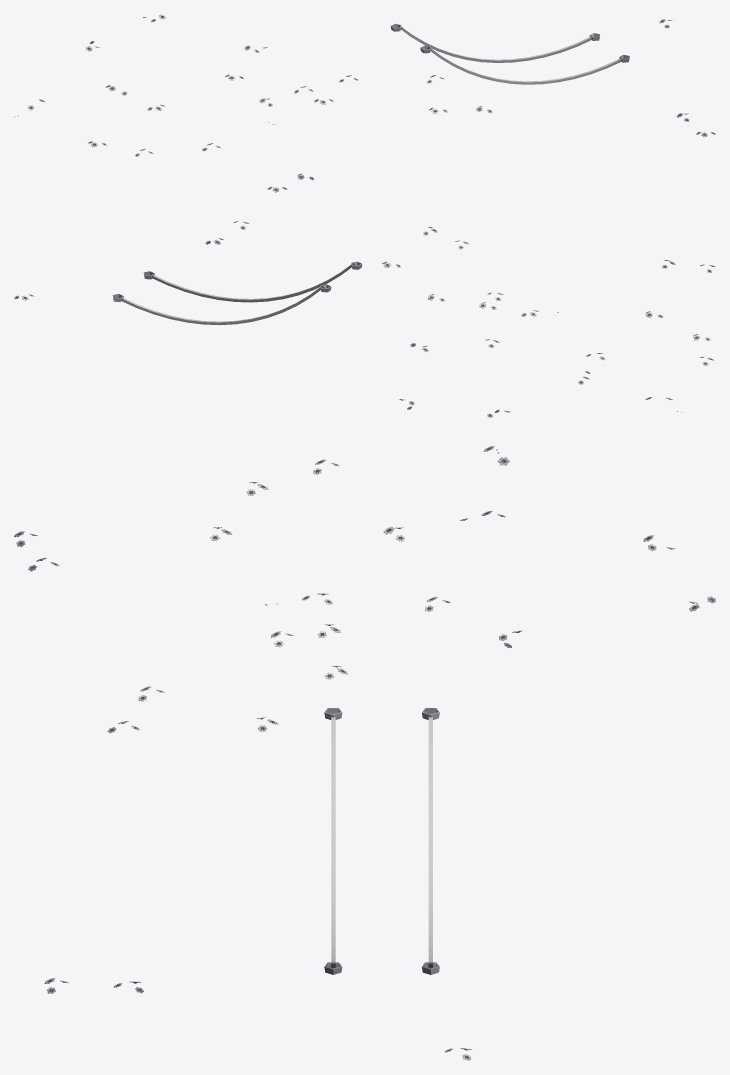
The model's file is Flower_01.FBX.
3 renders of one model, top to bottom at view 1: azimuth 30°, elevation 25°; view 2: azimuth 150°, elevation 25°; view 3: azimuth 270°, elevation 25°, orthographic. The views are drawn at different scales.
Visible parts, largest first — view 1: Flower_01; view 2: Flower_01; view 3: Flower_01.
Part boxes in pixels (x1,y1,x2,y2): Flower_01: (14, 14, 715, 192); Flower_01: (14, 221, 715, 417); Flower_01: (14, 446, 715, 1060).
Bounding box in the file's own units: 30.62 × 3.29 × 17.46.
